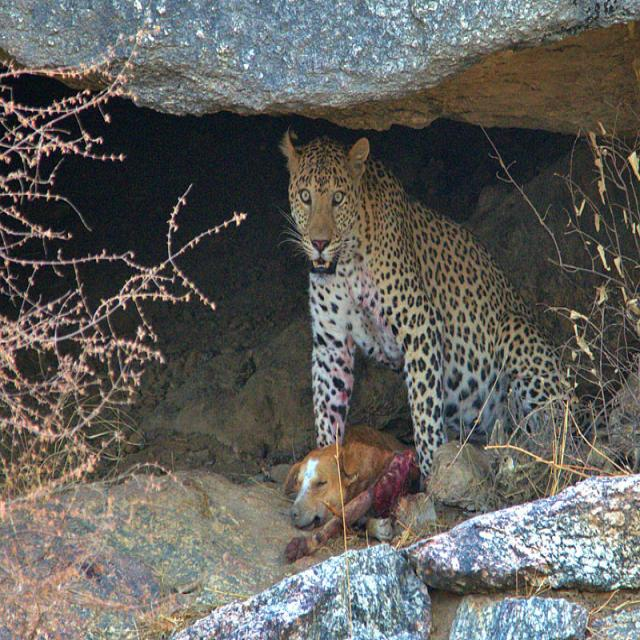Leopard: (282, 138, 580, 476)
